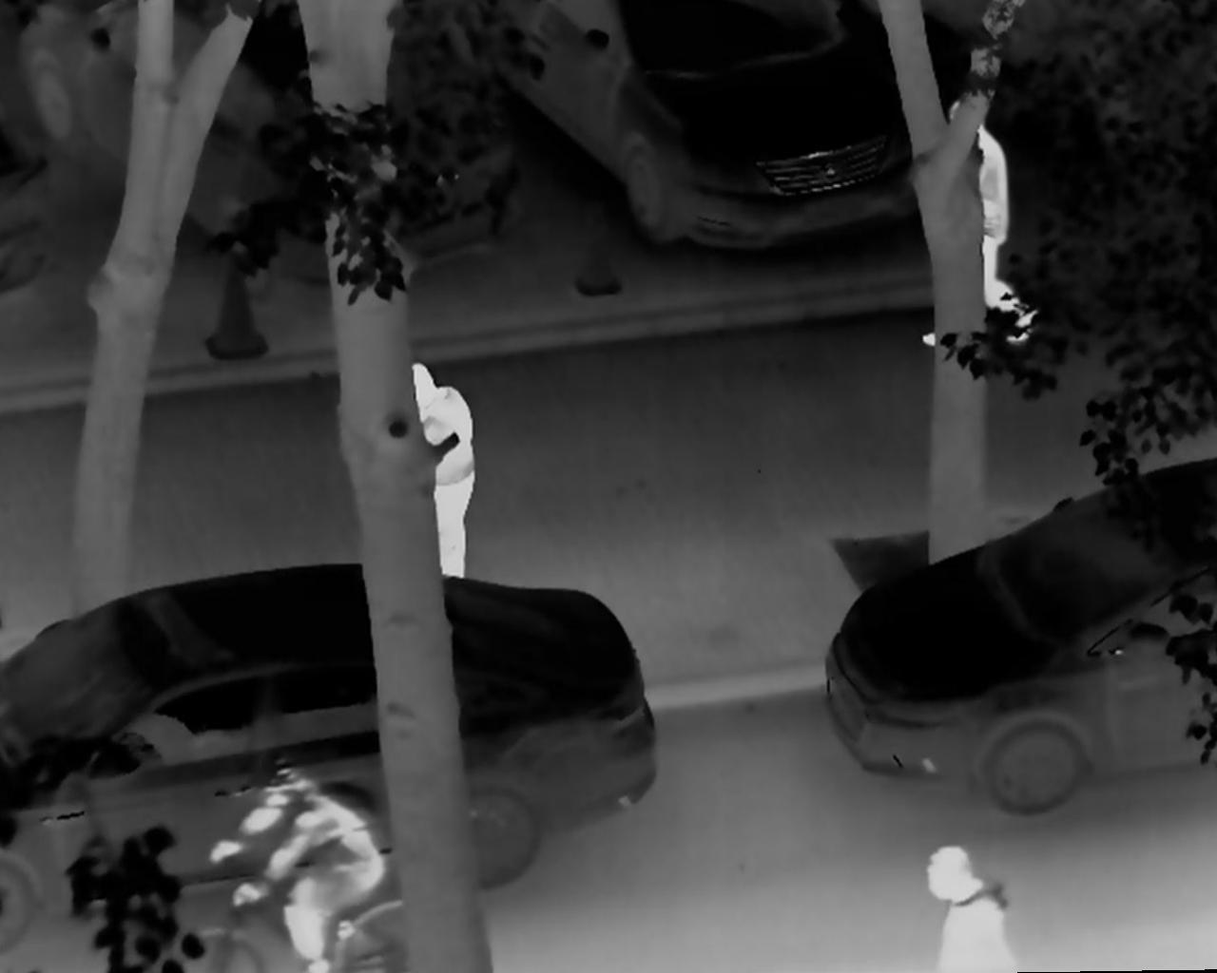person: (217, 745, 395, 973), (918, 91, 1039, 352), (396, 356, 478, 594), (911, 844, 1026, 973)
